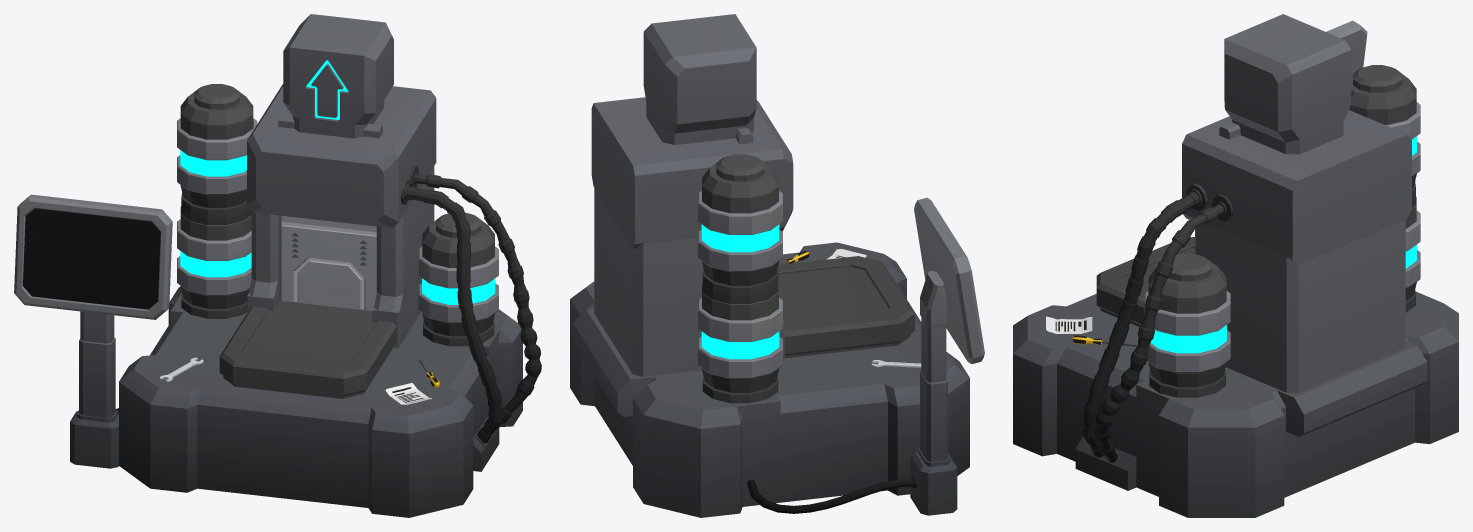
File: hub_test_upgrade_station.glb
3 views of the same model, side by side, from view 1: azimuth 30°, elevation 25°; view 2: azimuth 150°, elevation 25°; view 3: azimuth 270°, elevation 25° (orthographic). The views are drawn at different scales.
Visible parts, largest first — view 1: Cube.053, Cube.061, Cube.068, Cube.060, Cube.062, Cube.024, Cube.059, Cube.069, Cube.064, Cube.020, Cube.067, NurbsPath.001 (+2 smaller); view 2: Cube.053, Cube.061, Cube.059, Cube.062, Cube.024, Cube.060, Cube.020, Cube.067, Cube.068, NurbsPath.003; view 3: Cube.053, Cube.059, Cube.061, Cube.062, Cube.064, NurbsPath.001, NurbsPath, Cube.024, Cube.060, Cube.020, Cube.068, Plane.248.
Boxes of the visible parts, x1,y1,x2,y2 form: Cube.053: (119,286,522,517); Cube.061: (247,84,436,228); Cube.068: (14,194,172,319); Cube.060: (219,301,396,398); Cube.062: (283,14,393,138); Cube.024: (177,84,257,224); Cube.059: (247,166,434,348); Cube.069: (281,216,376,310); Cube.064: (418,212,498,346); Cube.020: (177,206,251,318); Cube.067: (70,311,118,468); NurbsPath.001: (400,179,501,443); Cube.053: (570,242,969,517); Cube.061: (591,97,793,248); Cube.059: (594,188,784,376); Cube.062: (643,14,756,144); Cube.024: (698,154,782,303); Cube.060: (777,256,914,358); Cube.020: (698,284,782,403); Cube.067: (910,271,957,515); Cube.068: (914,197,984,364); NurbsPath.003: (747,476,916,513); Cube.053: (1013,291,1458,517); Cube.059: (1195,219,1405,392); Cube.061: (1182,110,1411,265); Cube.062: (1224,14,1351,154); Cube.064: (1144,253,1230,397); NurbsPath.001: (1083,183,1207,457); NurbsPath: (1094,194,1233,462); Cube.024: (1349,65,1420,207); Cube.060: (1096,237,1194,326); Cube.020: (1405,197,1420,312); Cube.068: (1326,20,1367,74); Plane.248: (1046,316,1092,333).
Bounding box in the file's own units: 4.66 × 3.88 × 3.87.
4 materials, 3 textured.
